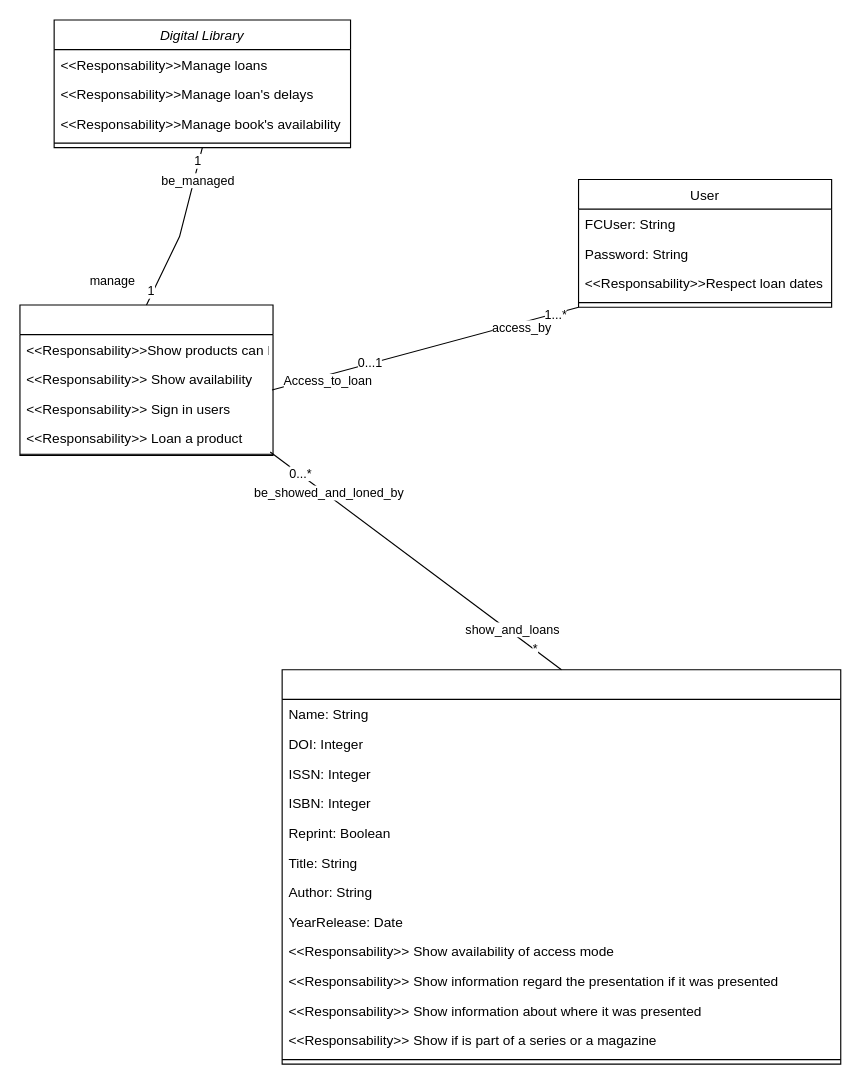
The diagram is 861 pixels wide and 1084 high, and some of its shapes have lost their labels. The box of each missing label's shape, as (x1, y1, x2, y2) in pixels:
Product: (281, 669, 841, 1064)
Web site: (19, 304, 273, 455)
